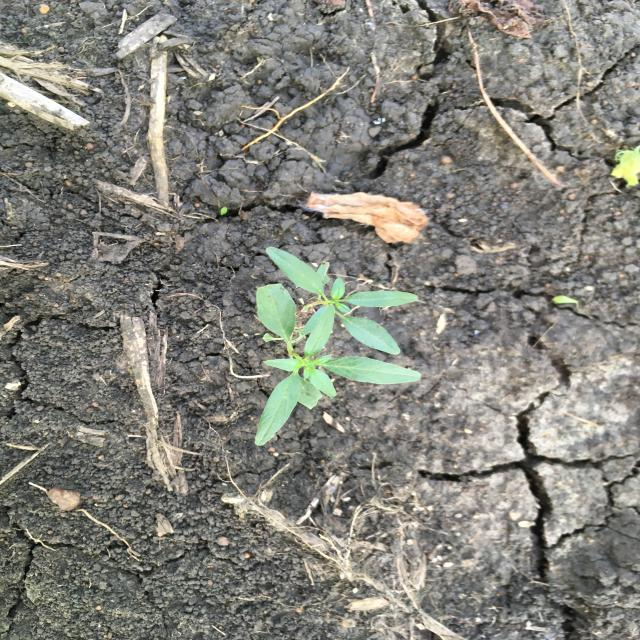Waterhemp: (252, 244, 425, 446)
